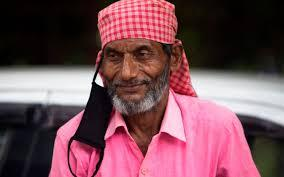Wore Mask Incorrectly: (61, 27, 207, 176)
